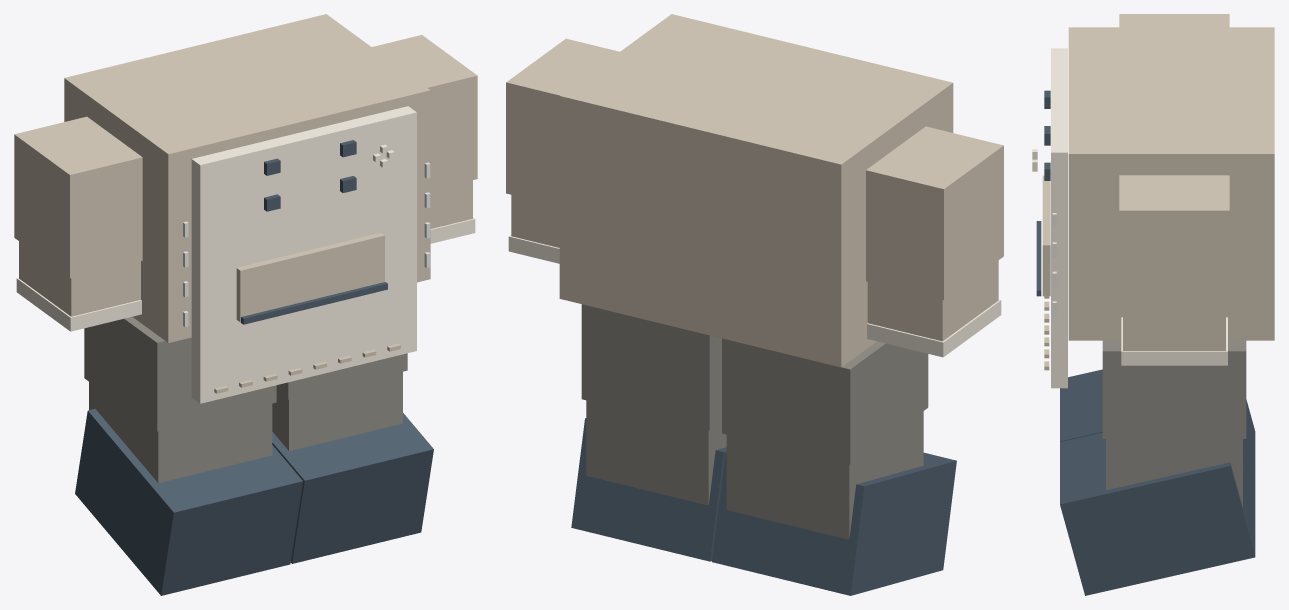
Rendered from chef-sand.glb.
3 renders of one model, left to right at view 1: azimuth 30°, elevation 25°; view 2: azimuth 150°, elevation 25°; view 3: azimuth 270°, elevation 25°, orthographic. The views are drawn at different scales.
Visible parts, largest first — view 1: apron, jacket, shoe-Right, upper-sleeve-Right, shoe-Left, trouser-Right, lower-trouser-Right, upper-sleeve-Left, apron-pocket, lower-trouser-Left, lower-sleeve-Right, trouser-Left (+4 smaller); view 2: jacket, upper-sleeve-Right, trouser-Right, shoe-Right, trouser-Left, lower-trouser-Right, lower-trouser-Left, upper-sleeve-Left, shoe-Left, lower-sleeve-Right, cuff-Right, lower-sleeve-Left (+1 smaller); view 3: jacket, shoe-Left, upper-sleeve-Left, trouser-Left, apron, lower-trouser-Left, lower-sleeve-Left, shoe-Right, cuff-Left, upper-sleeve-Right, apron-pocket, design-chef-apron-pocket-binding.
Boxes of the visible parts, x1,y1,x2,y2 form: apron: [191, 106, 416, 403]; jacket: [64, 14, 430, 342]; shoe-Right: [75, 409, 302, 595]; upper-sleeve-Right: [14, 116, 142, 278]; shoe-Left: [272, 413, 433, 563]; trouser-Right: [84, 317, 276, 431]; lower-trouser-Right: [89, 382, 272, 482]; upper-sleeve-Left: [372, 35, 477, 190]; apron-pocket: [236, 233, 384, 322]; lower-trouser-Left: [272, 372, 402, 451]; lower-sleeve-Right: [19, 241, 140, 316]; trouser-Left: [276, 353, 407, 399]; jacket: [559, 14, 953, 367]; upper-sleeve-Right: [866, 126, 1003, 300]; trouser-Right: [722, 338, 928, 464]; shoe-Right: [712, 452, 956, 595]; trouser-Left: [581, 304, 721, 430]; lower-trouser-Right: [726, 411, 923, 539]; lower-trouser-Left: [586, 400, 726, 505]; upper-sleeve-Left: [506, 38, 619, 206]; shoe-Left: [571, 418, 726, 561]; lower-sleeve-Right: [867, 260, 998, 341]; cuff-Right: [867, 299, 1001, 357]; lower-sleeve-Left: [511, 195, 559, 247]; jacket: [1068, 27, 1274, 340]; shoe-Left: [1060, 432, 1255, 595]; upper-sleeve-Left: [1119, 175, 1229, 312]; trouser-Left: [1102, 340, 1246, 438]; apron: [1051, 48, 1067, 388]; lower-trouser-Left: [1106, 439, 1242, 507]; lower-sleeve-Left: [1123, 312, 1225, 350]; shoe-Right: [1060, 369, 1255, 493]; cuff-Left: [1121, 317, 1227, 365]; upper-sleeve-Right: [1119, 14, 1229, 27]; apron-pocket: [1042, 175, 1050, 296]; design-chef-apron-pocket-binding: [1036, 221, 1041, 296].
Size of the model in its own units: 1.07 by 1.13 by 0.559.
